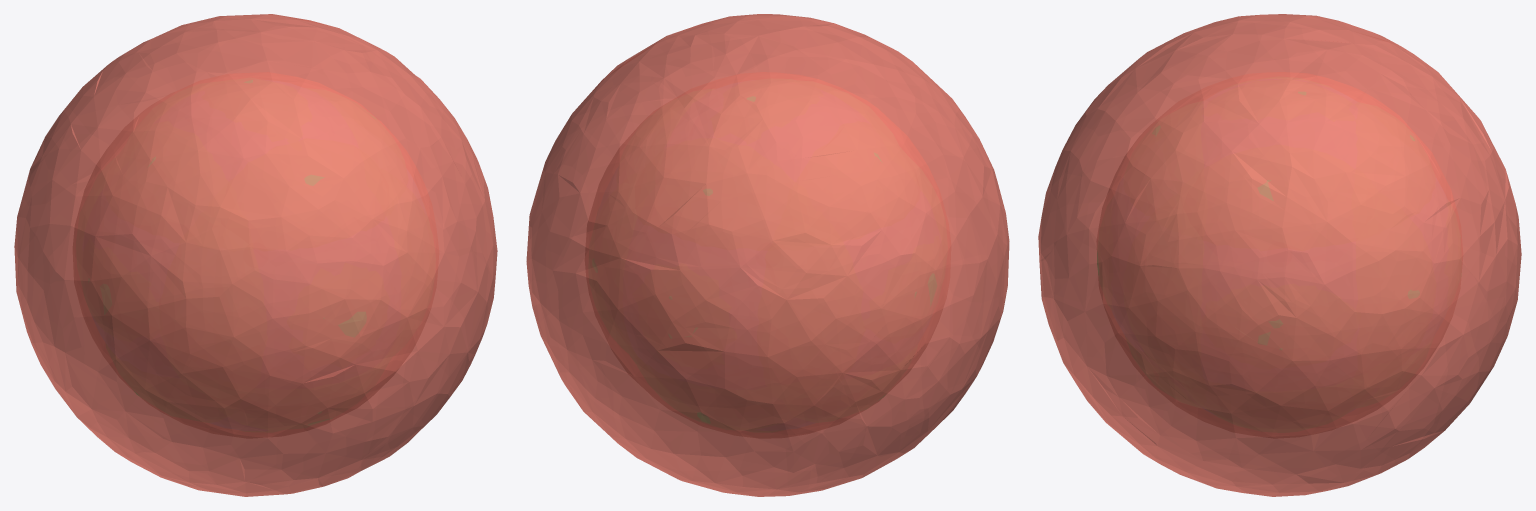
Rendered from orbital.glb.
3 views of the same model, side by side, from view 1: azimuth 30°, elevation 25°; view 2: azimuth 150°, elevation 25°; view 3: azimuth 270°, elevation 25° (orthographic).
Visible parts, largest first — view 1: Zn_n4_s_ml0_node, Zn_n3_s_ml0_node; view 2: Zn_n4_s_ml0_node, Zn_n3_s_ml0_node; view 3: Zn_n4_s_ml0_node, Zn_n3_s_ml0_node.
Boxes of the visible parts, <box> form: Zn_n4_s_ml0_node: <box>14,14,497,496</box>; Zn_n3_s_ml0_node: <box>73,72,438,438</box>; Zn_n4_s_ml0_node: <box>526,14,1009,496</box>; Zn_n3_s_ml0_node: <box>585,72,950,438</box>; Zn_n4_s_ml0_node: <box>1038,14,1521,496</box>; Zn_n3_s_ml0_node: <box>1096,72,1462,438</box>.
Bounding box in the file's own units: 2.06 × 2.07 × 2.06.
